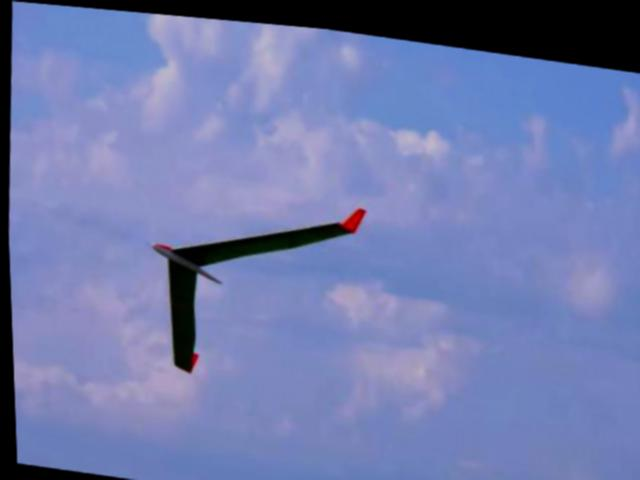flying wing: (141, 175, 373, 392)
